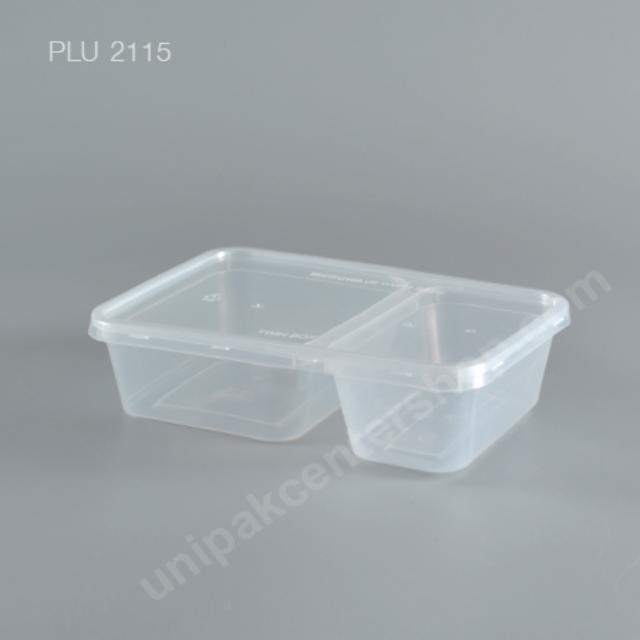Plastico descartable: (90, 248, 570, 472)
